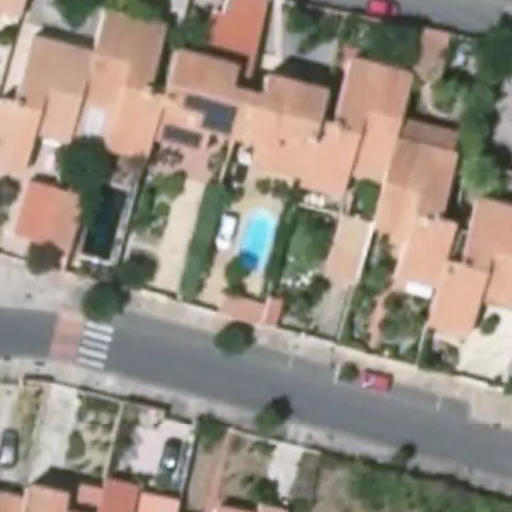pool: (236, 209, 279, 277)
